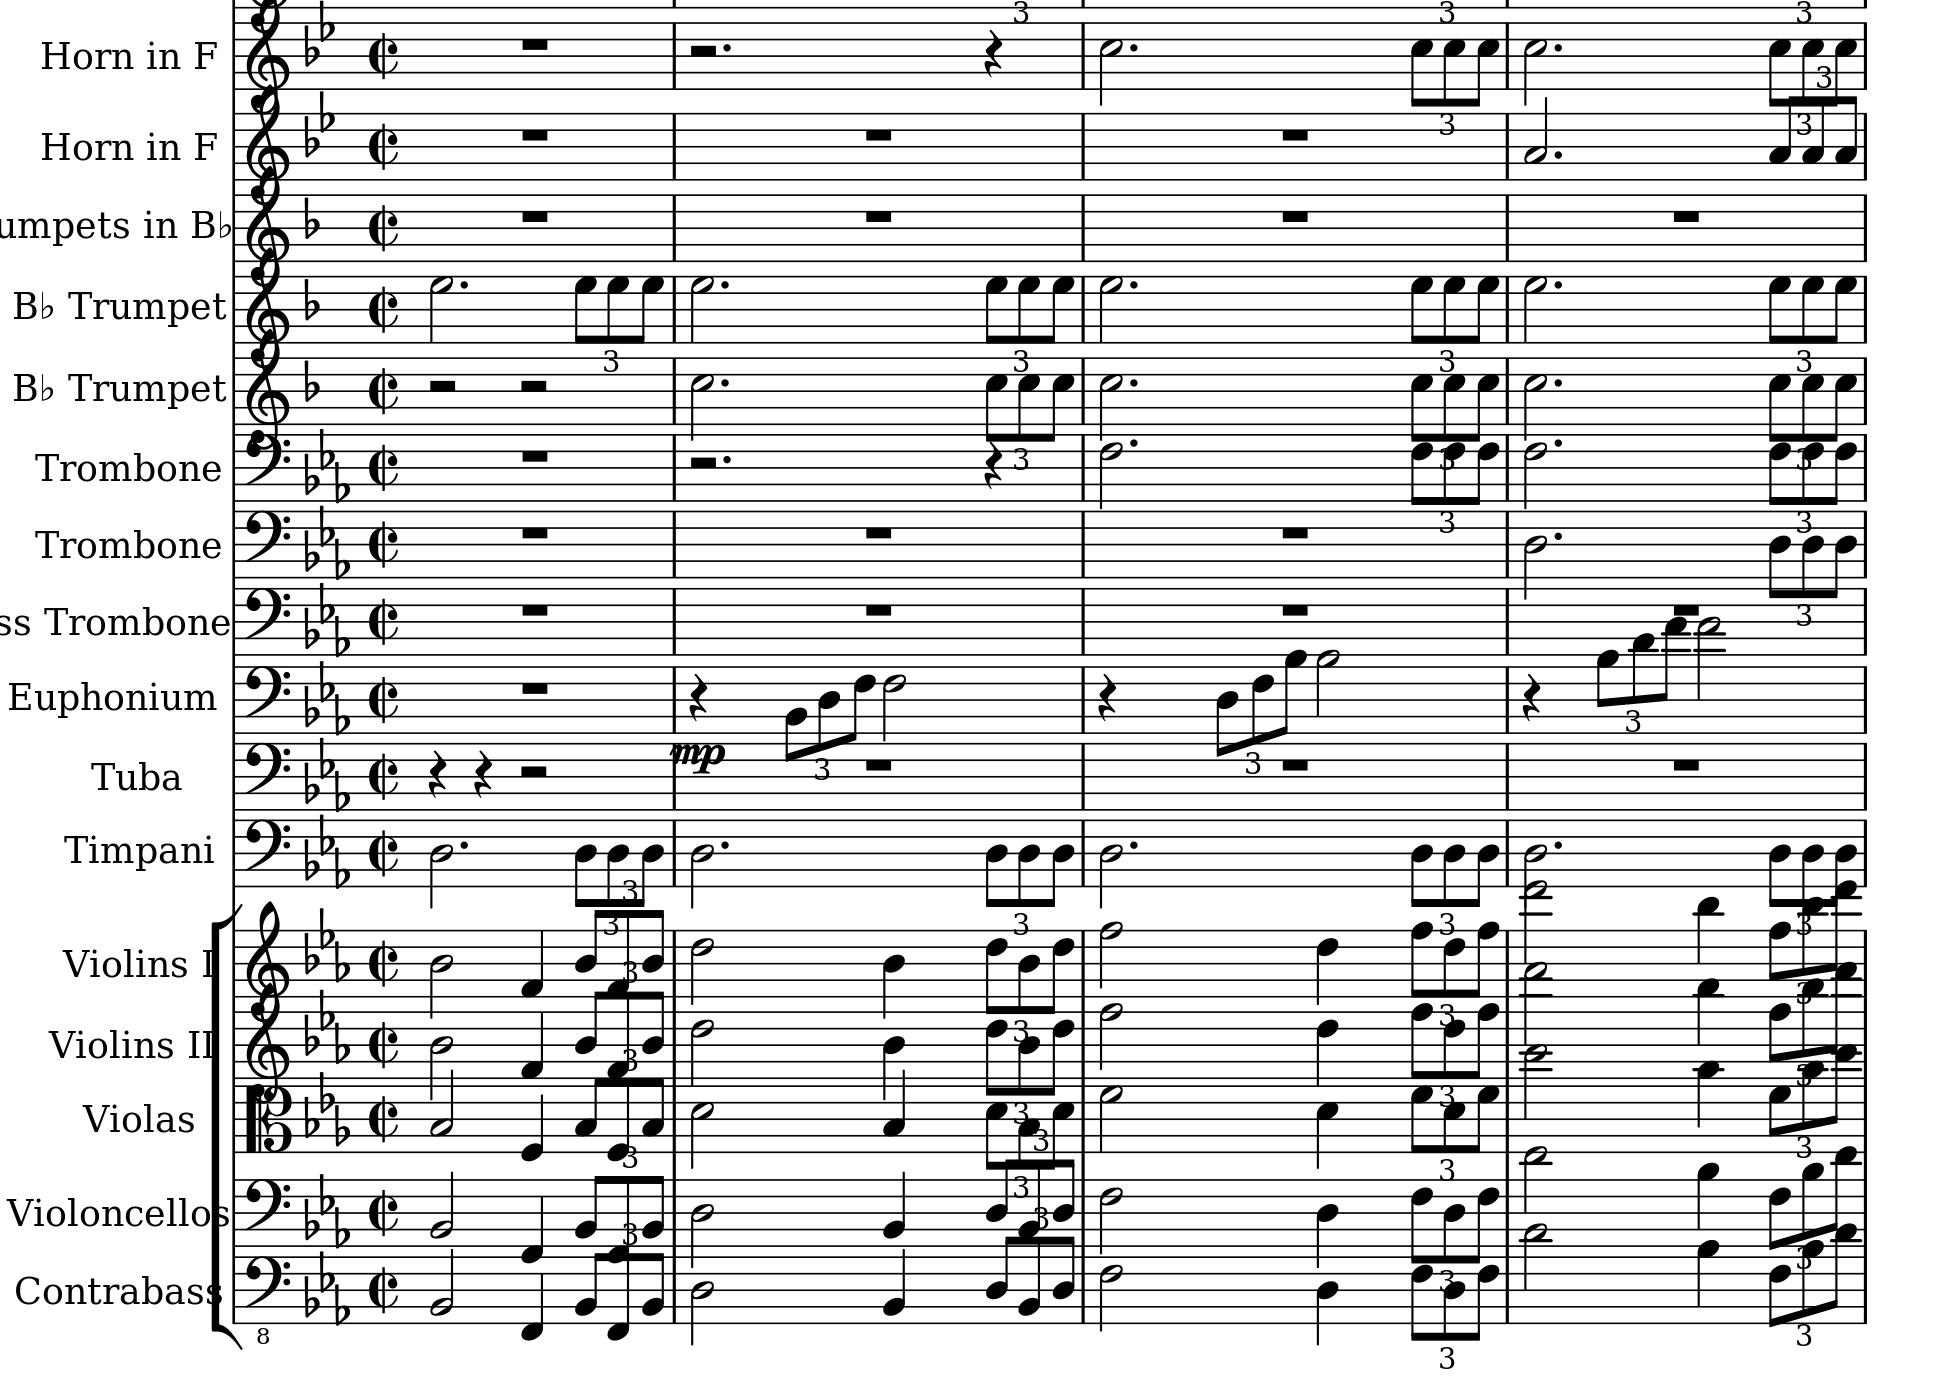2_4: (688, 816, 715, 910), (1099, 817, 1126, 910)
2_5: (1096, 19, 1123, 105), (1521, 19, 1549, 100), (688, 355, 712, 439)
2_6: (688, 925, 715, 1005), (1098, 994, 1125, 1072), (1098, 1177, 1123, 1255), (1098, 1254, 1122, 1333)
2_7: (1098, 1081, 1123, 1155), (688, 274, 715, 343), (1098, 274, 1125, 343), (1522, 274, 1548, 345)
3: (1794, 348, 1813, 373), (1794, 1, 1813, 25), (1794, 508, 1813, 532), (1794, 601, 1812, 625), (1014, 910, 1029, 937), (1438, 910, 1455, 934)
8_5: (1473, 21, 1500, 105), (1441, 21, 1467, 105), (1410, 19, 1434, 105)
8_7: (634, 274, 664, 343), (1471, 274, 1500, 343), (1830, 274, 1858, 343), (1047, 274, 1074, 343), (1410, 274, 1434, 345), (1017, 274, 1041, 343), (574, 274, 597, 343), (606, 274, 628, 343), (985, 274, 1008, 343), (1443, 274, 1465, 343), (1801, 274, 1824, 343)
B_F: (301, 1, 337, 67), (301, 91, 336, 157)
Bracke: (208, 901, 238, 1336)
E_F: (300, 988, 354, 1066), (301, 904, 352, 985), (301, 1069, 352, 1150), (300, 427, 352, 505), (300, 580, 352, 658), (300, 658, 352, 736), (301, 502, 352, 582), (301, 811, 352, 889), (301, 1171, 352, 1249), (301, 736, 352, 813), (301, 1248, 351, 1324)
Fclef: (244, 817, 291, 888)
Flat: (303, 358, 319, 403), (303, 277, 319, 319)
Hn: (36, 36, 135, 76), (39, 127, 133, 168)
Rests1: (517, 676, 553, 700), (859, 522, 898, 543), (861, 204, 897, 226), (1278, 204, 1314, 226), (517, 598, 553, 621), (861, 124, 898, 145), (1668, 205, 1705, 226), (1276, 522, 1314, 543), (859, 597, 897, 618), (1669, 754, 1707, 775), (1278, 124, 1314, 145), (516, 205, 552, 226), (862, 754, 898, 775), (1278, 595, 1312, 616), (1279, 754, 1314, 775), (517, 34, 553, 54), (517, 522, 553, 541), (517, 124, 552, 144), (517, 447, 553, 465)
Rests2: (517, 760, 556, 784), (685, 40, 721, 63), (424, 376, 460, 397), (685, 453, 721, 474), (516, 376, 552, 396)
Rests4: (1521, 670, 1545, 723), (687, 670, 709, 723), (1096, 670, 1119, 723), (982, 28, 1005, 79), (427, 748, 448, 799), (982, 445, 1005, 490), (472, 748, 492, 798)
Single_barline: (1500, 1245, 1519, 1321), (1857, 274, 1878, 343), (1857, 112, 1878, 180), (1857, 21, 1876, 88), (1858, 433, 1876, 502), (1857, 193, 1875, 261), (1500, 1080, 1516, 1153), (1857, 357, 1875, 423), (1857, 817, 1875, 883), (1858, 741, 1875, 811), (1858, 508, 1875, 577), (1501, 994, 1515, 1077), (1501, 1177, 1518, 1245), (228, 808, 241, 886), (1858, 586, 1873, 655), (1500, 508, 1515, 576), (1860, 664, 1873, 735), (1858, 1252, 1872, 1323), (1501, 741, 1515, 810), (1501, 277, 1516, 339), (667, 666, 681, 733), (1077, 277, 1092, 337), (1077, 114, 1090, 180), (1077, 433, 1090, 499), (1077, 511, 1090, 577), (1501, 667, 1515, 733), (229, 1248, 241, 1321), (667, 24, 681, 88), (667, 114, 681, 178), (1500, 115, 1515, 172), (667, 436, 681, 499), (669, 276, 682, 337), (1503, 927, 1515, 994), (1077, 22, 1089, 88), (1501, 589, 1513, 655), (1503, 819, 1515, 885), (1501, 358, 1515, 417), (667, 360, 681, 418), (667, 511, 679, 576), (1077, 588, 1089, 652), (667, 589, 679, 654), (1501, 25, 1515, 82), (1500, 196, 1513, 250), (1077, 358, 1089, 417), (1077, 195, 1089, 247), (669, 196, 679, 244), (1860, 1, 1872, 10), (669, 1, 678, 7), (1078, 1, 1087, 7)
TimeSig: (367, 192, 400, 262), (367, 928, 400, 999), (367, 22, 400, 91), (367, 112, 400, 181), (367, 274, 400, 343), (367, 433, 400, 502), (367, 586, 400, 655), (367, 510, 400, 577), (367, 1255, 400, 1323), (367, 819, 399, 888), (367, 666, 399, 733), (367, 742, 399, 810), (367, 1011, 399, 1078), (367, 1179, 399, 1246), (367, 358, 399, 424), (367, 1086, 399, 1152)
dot: (457, 277, 469, 291), (718, 838, 732, 850), (721, 40, 733, 52), (718, 277, 730, 289), (718, 376, 730, 388), (721, 453, 733, 465), (457, 838, 469, 850)
mp: (667, 739, 730, 775)
